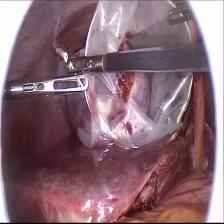Grasper: (8, 74, 91, 96), (64, 54, 110, 74), (166, 1, 198, 29)
Specimen Bag: (61, 6, 202, 150)
